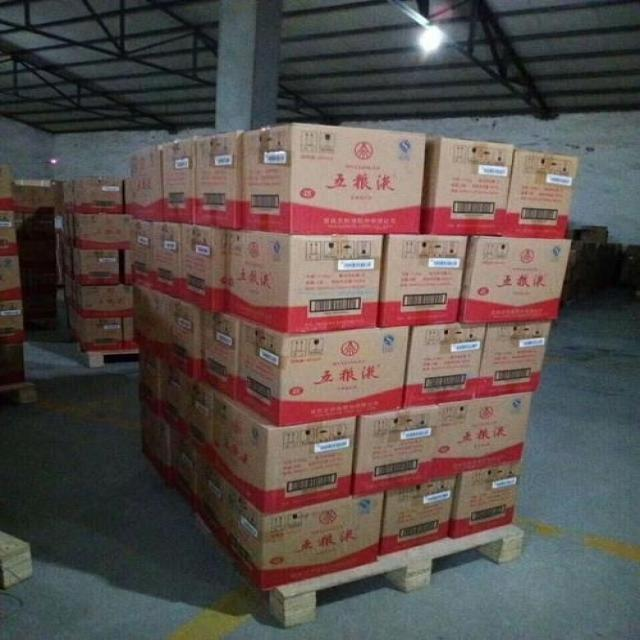box: (198, 453, 384, 590), (242, 123, 425, 235), (237, 320, 411, 426), (210, 391, 358, 515), (225, 229, 385, 335), (458, 236, 572, 323), (420, 137, 516, 236), (430, 392, 532, 481), (379, 235, 470, 327), (353, 405, 442, 498), (403, 322, 486, 409), (504, 151, 580, 238), (379, 475, 458, 557), (475, 320, 553, 399), (451, 463, 521, 539), (196, 130, 242, 229), (180, 223, 227, 313), (202, 310, 241, 399), (132, 285, 172, 366), (140, 404, 177, 485), (169, 297, 204, 380), (163, 136, 196, 224), (129, 144, 164, 221), (151, 221, 183, 298), (189, 382, 218, 462), (165, 368, 195, 438), (64, 179, 123, 214), (74, 214, 131, 249), (73, 285, 133, 317), (0, 530, 33, 588), (129, 219, 156, 289), (174, 432, 198, 510), (76, 314, 123, 352), (138, 350, 164, 417), (72, 249, 120, 284), (13, 179, 52, 212), (0, 299, 24, 347), (0, 256, 23, 301), (0, 211, 18, 255), (0, 166, 12, 210), (123, 249, 134, 285)
